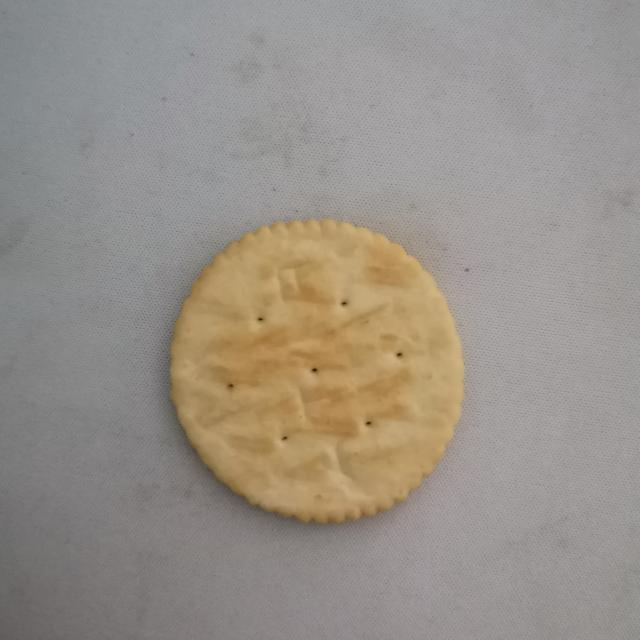Intact: (154, 209, 478, 537)
